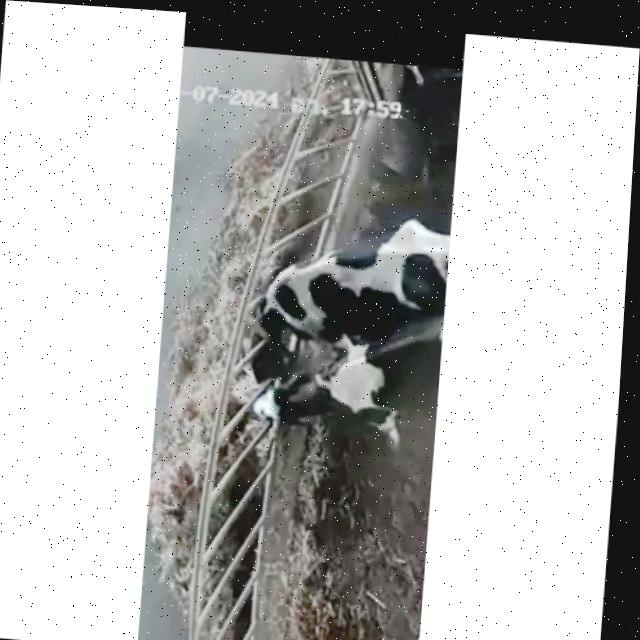eat: (184, 352, 335, 439), (190, 257, 342, 338)
